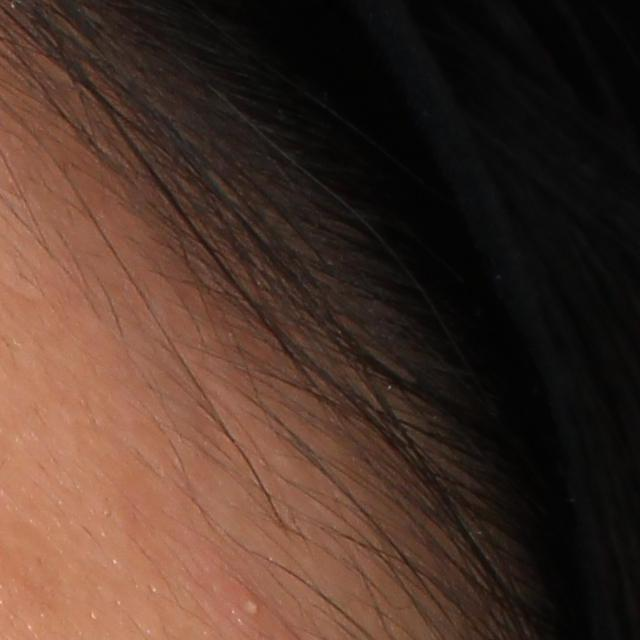pustule: (234, 592, 264, 622)
